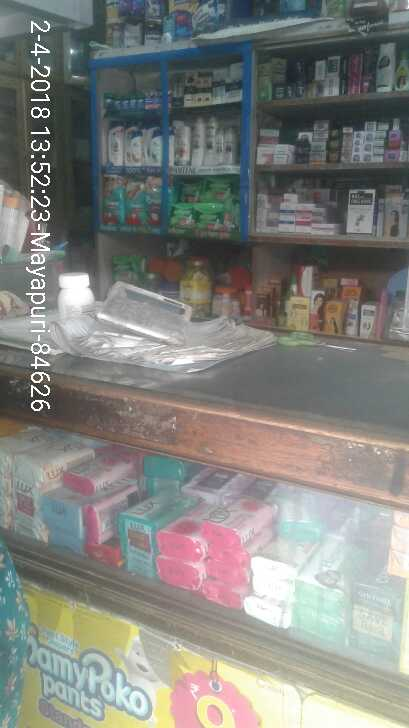vicks: (104, 91, 173, 115)
